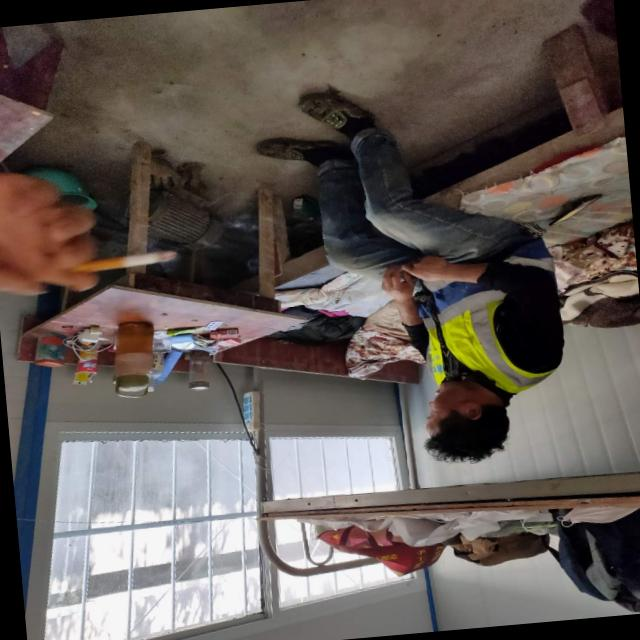cigarette: (70, 236, 196, 284)
